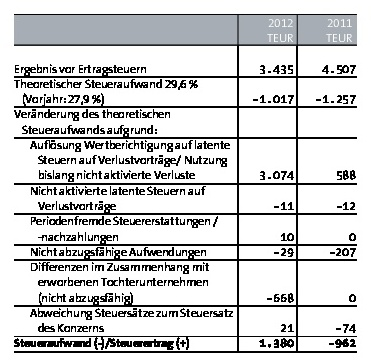table: (0, 0, 371, 361)
